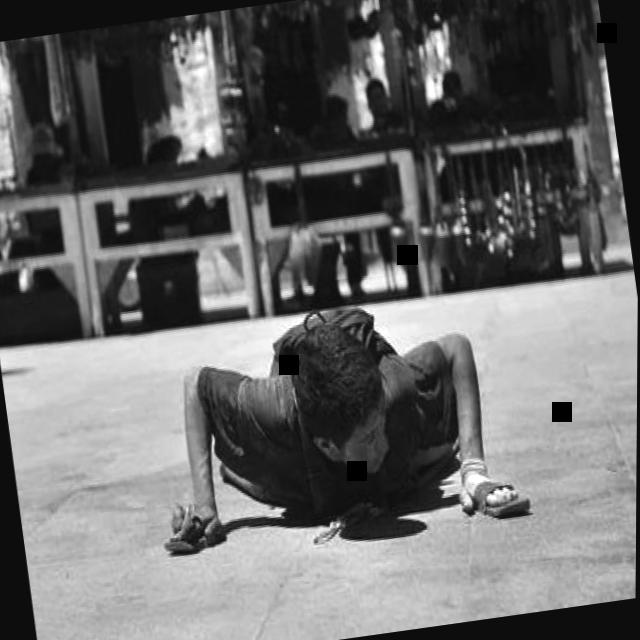Fall-Detected: (134, 270, 532, 580)
